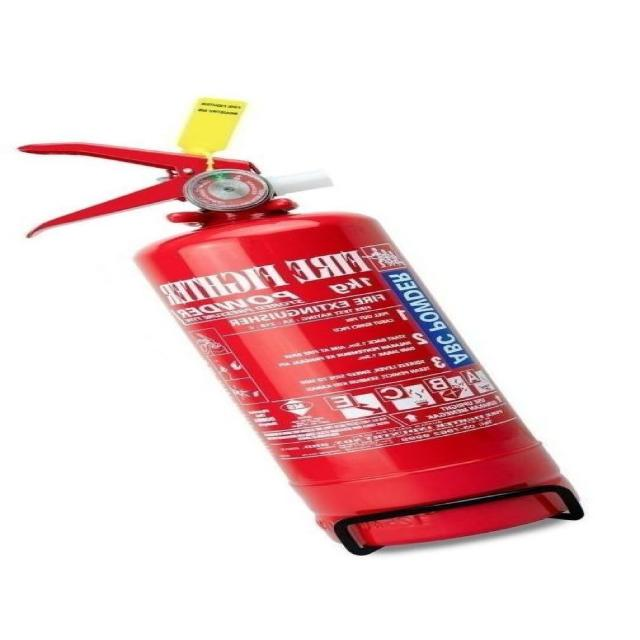fire_extinguisher: (6, 93, 587, 551)
